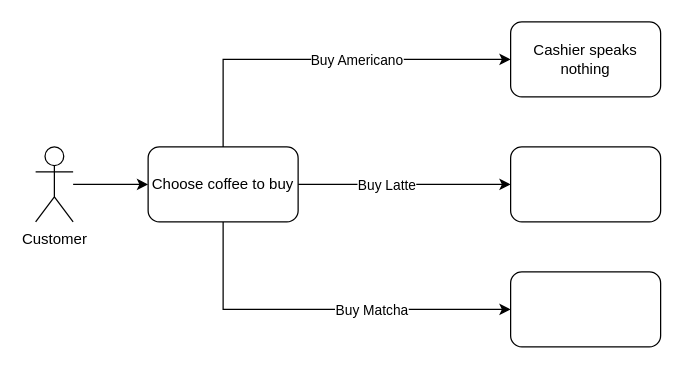
Image size: 683x369. Some labels were removed from this diagram. The box of each missing label's shape, as (x1, y1, x2, y2) in pixels:
Cashier and you start a small talk: (509, 271, 661, 347)
Cashier trying to recommend some dessert: (509, 146, 661, 222)
